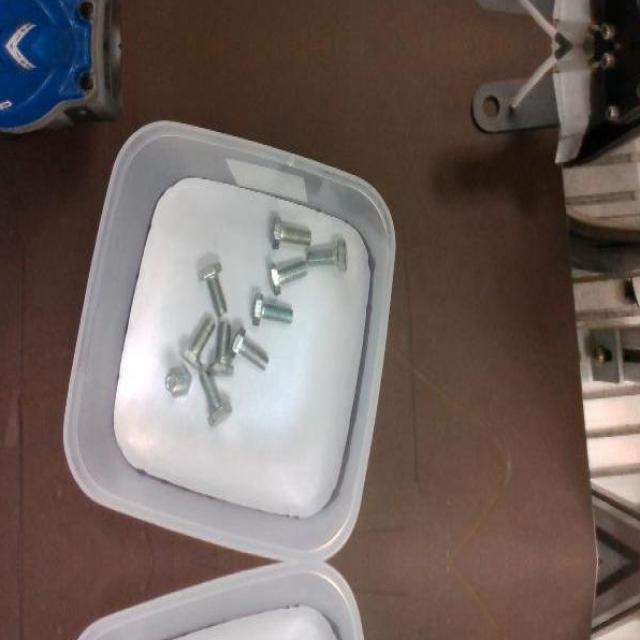screw: (178, 316, 216, 369), (228, 324, 270, 369), (200, 371, 233, 426), (196, 262, 228, 316), (253, 293, 294, 328), (210, 321, 236, 375), (308, 238, 348, 273), (268, 261, 308, 295), (273, 216, 311, 250), (165, 365, 192, 398)
